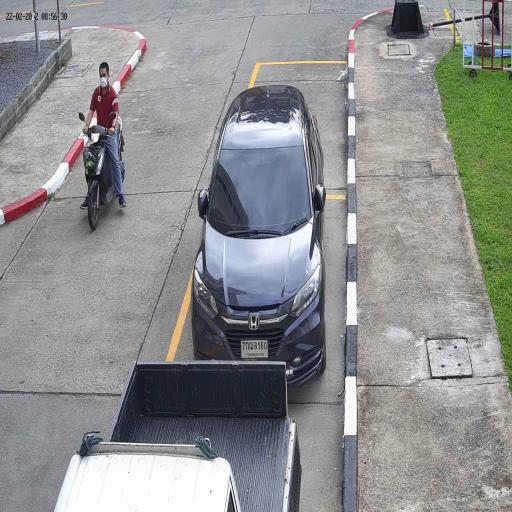car: (191, 82, 329, 389), (51, 361, 305, 512)
motorcycle: (81, 117, 125, 231)
